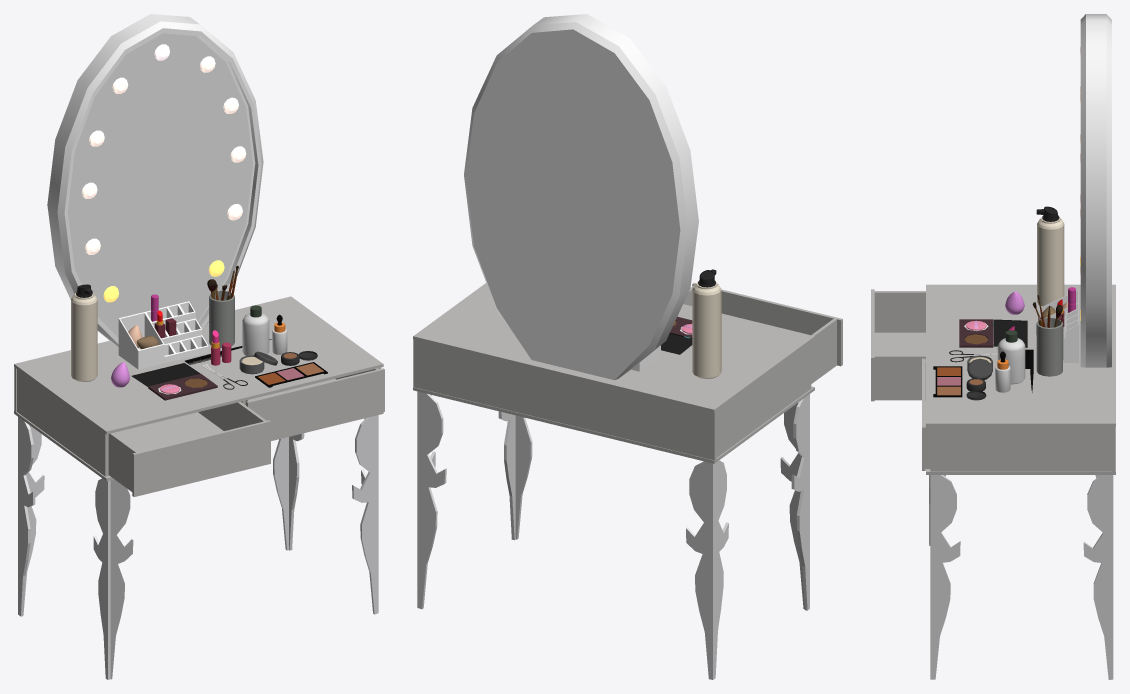
The model's file is makeup_table--low_poly.glb.
3 renders of one model, left to right at view 1: azimuth 30°, elevation 25°; view 2: azimuth 150°, elevation 25°; view 3: azimuth 270°, elevation 25°, orthographic. The views are drawn at different scales.
Parts seen in each view (by area): view 1: Object_34, Object_24, Object_33, Object_18, Object_13, Object_21, Object_90, Object_59, Object_69, Object_8, Object_15, Object_41 (+12 smaller); view 2: Object_33, Object_23, Object_24, Object_21, Object_51, Object_19, Object_18, Object_8, Object_69, Object_41, Object_25, Object_90 (+4 smaller); view 3: Object_24, Object_33, Object_22, Object_30, Object_79, Object_8, Object_14, Object_16, Object_64, Object_15, Object_6, Object_42 (+8 smaller).
Boxes of the visible parts, x1=… form: Object_34: x1=67, y1=33, x2=252, y2=337; Object_24: x1=14, y1=296, x2=383, y2=434; Object_33: x1=47, y1=14, x2=263, y2=347; Object_18: x1=132, y1=420, x2=270, y2=496; Object_13: x1=246, y1=368, x2=384, y2=439; Object_21: x1=17, y1=369, x2=108, y2=476; Object_90: x1=352, y1=415, x2=378, y2=614; Object_59: x1=110, y1=479, x2=133, y2=679; Object_69: x1=93, y1=478, x2=110, y2=679; Object_8: x1=71, y1=293, x2=97, y2=381; Object_15: x1=113, y1=412, x2=223, y2=451; Object_41: x1=19, y1=418, x2=35, y2=616; Object_33: x1=464, y1=14, x2=698, y2=380; Object_23: x1=413, y1=339, x2=716, y2=460; Object_24: x1=413, y1=283, x2=814, y2=412; Object_21: x1=716, y1=342, x2=811, y2=457; Object_51: x1=686, y1=461, x2=714, y2=679; Object_19: x1=420, y1=392, x2=446, y2=609; Object_18: x1=692, y1=282, x2=842, y2=366; Object_8: x1=692, y1=281, x2=721, y2=378; Object_69: x1=791, y1=394, x2=809, y2=610; Object_41: x1=714, y1=460, x2=728, y2=678; Object_25: x1=413, y1=386, x2=814, y2=463; Object_90: x1=515, y1=415, x2=532, y2=539; Object_24: x1=926, y1=284, x2=1115, y2=426; Object_33: x1=1080, y1=14, x2=1111, y2=367; Object_22: x1=930, y1=426, x2=1111, y2=471; Object_30: x1=1083, y1=475, x2=1113, y2=679; Object_79: x1=933, y1=475, x2=960, y2=679; Object_8: x1=1037, y1=216, x2=1064, y2=306; Object_14: x1=872, y1=355, x2=925, y2=400; Object_16: x1=874, y1=291, x2=925, y2=332; Object_64: x1=1036, y1=318, x2=1063, y2=376; Object_15: x1=874, y1=332, x2=925, y2=355; Object_6: x1=997, y1=338, x2=1025, y2=384; Object_42: x1=1063, y1=303, x2=1078, y2=362.
Bounding box in the file's own units: 1624 × 3202 × 1210.
